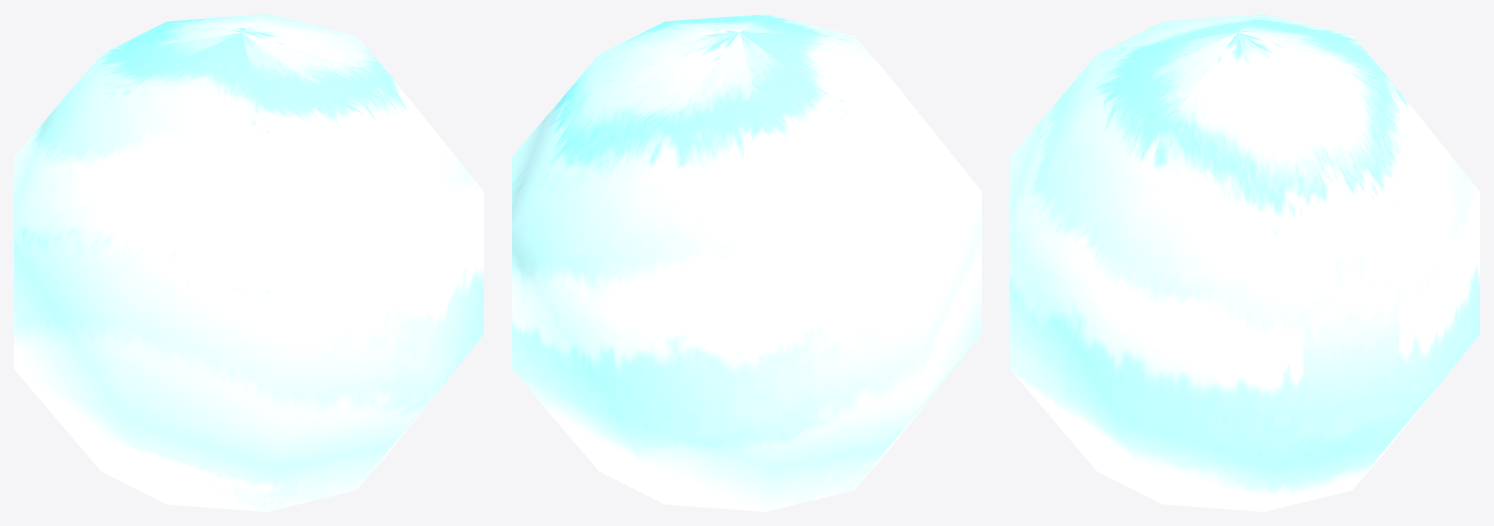
File: sala_de_aula_if.fbx
3 views of the same model, side by side, from view 1: azimuth 30°, elevation 25°; view 2: azimuth 150°, elevation 25°; view 3: azimuth 270°, elevation 25° (orthographic).
Parts seen in each view (by area): view 1: Sphere.005; view 2: Sphere.005; view 3: Sphere.005.
Boxes of the visible parts, x1,y1,x2,y2 form: Sphere.005: (14,14,483,511); Sphere.005: (512,14,981,511); Sphere.005: (1010,14,1479,511).
Size of the model in its own units: 11790 by 12588 by 11611.
12 materials, 8 textured.
